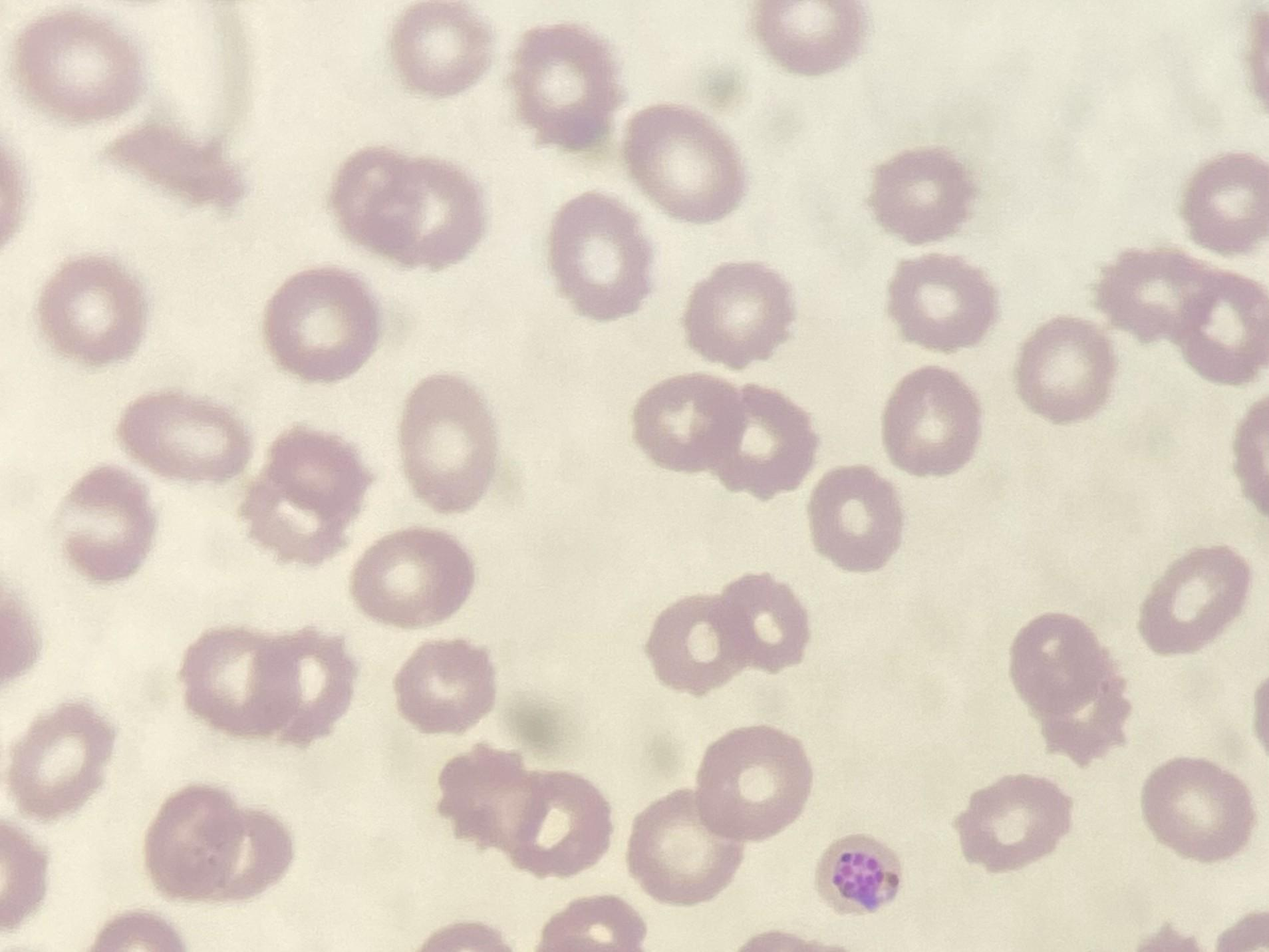Infected: (817, 835, 901, 913)
Uninfected: (1099, 243, 1269, 386), (182, 622, 356, 746), (647, 571, 809, 695), (333, 144, 486, 270), (237, 423, 373, 563), (1008, 610, 1131, 759), (144, 783, 292, 903), (541, 185, 656, 317), (397, 371, 501, 510), (624, 103, 745, 220), (15, 7, 140, 120), (694, 723, 812, 842), (434, 745, 554, 862), (108, 118, 251, 215), (510, 22, 623, 142), (7, 699, 118, 819), (262, 267, 378, 380), (351, 527, 477, 630), (119, 387, 251, 483), (627, 793, 742, 902), (632, 371, 748, 477), (55, 464, 158, 583), (1138, 544, 1249, 654), (712, 383, 819, 496), (37, 253, 146, 363), (1139, 754, 1252, 860), (885, 251, 1001, 351), (683, 259, 793, 363), (955, 774, 1071, 872), (504, 772, 611, 877), (883, 365, 986, 473), (805, 465, 907, 572), (867, 146, 980, 241), (392, 637, 499, 735), (1016, 316, 1115, 420), (392, 1, 492, 91), (1181, 152, 1269, 251), (755, 2, 867, 74)
